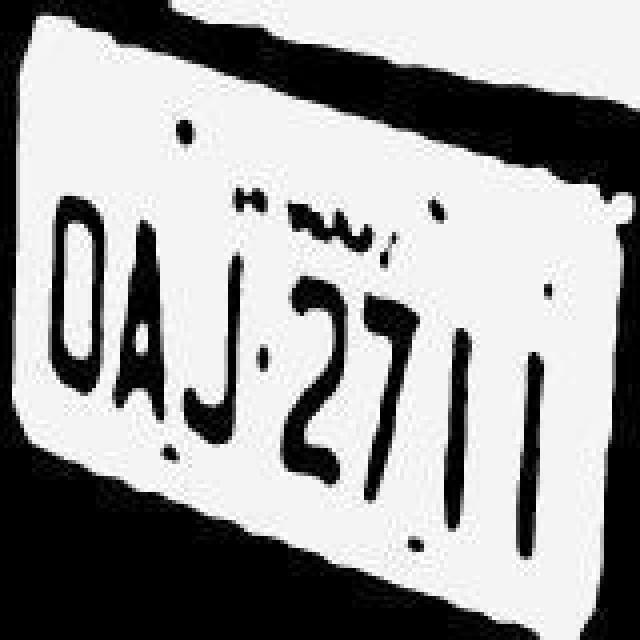1: (430, 292, 482, 540), (502, 336, 554, 584)
2: (280, 262, 352, 514)
7: (354, 274, 414, 510)
A: (106, 178, 174, 430)
J: (174, 222, 250, 450)
O: (42, 180, 118, 436)
